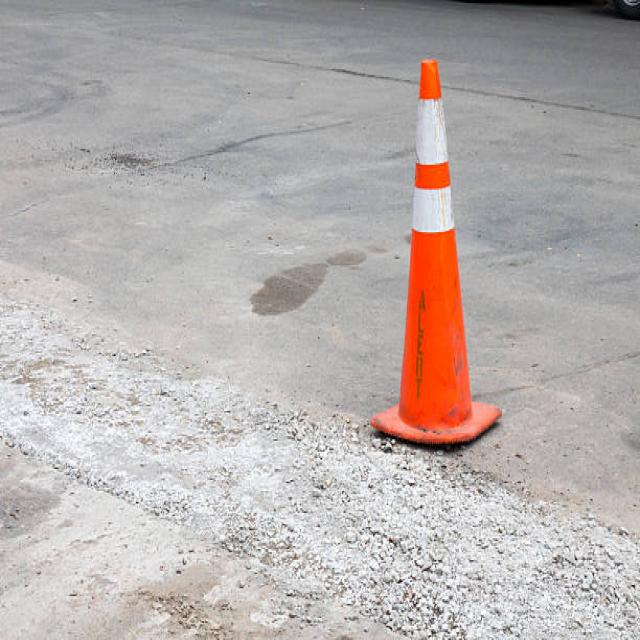Traffic Cone: (345, 30, 529, 495)
